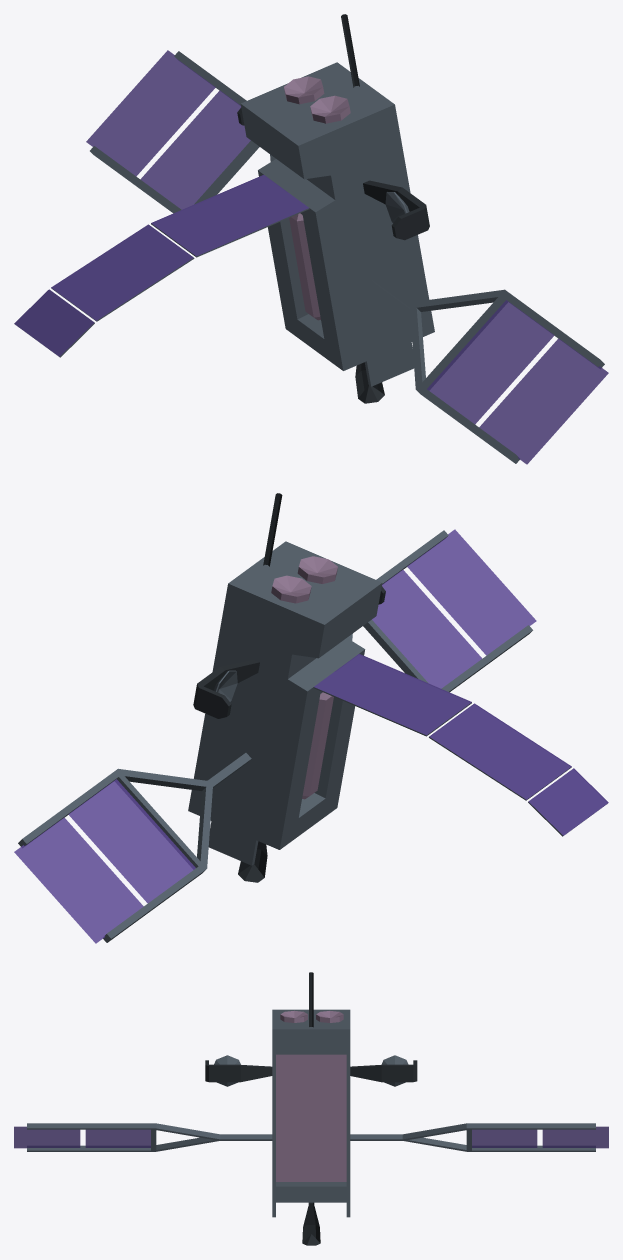
The model's file is Sat-US-SBIRS-Geo.glb.
3 views of the same model, one above another, from view 1: azimuth 30°, elevation 25°; view 2: azimuth 150°, elevation 25°; view 3: azimuth 270°, elevation 25° (orthographic). The views are drawn at different scales.
Bounding box in the file's own units: 35.31 × 35.65 × 73.03.
